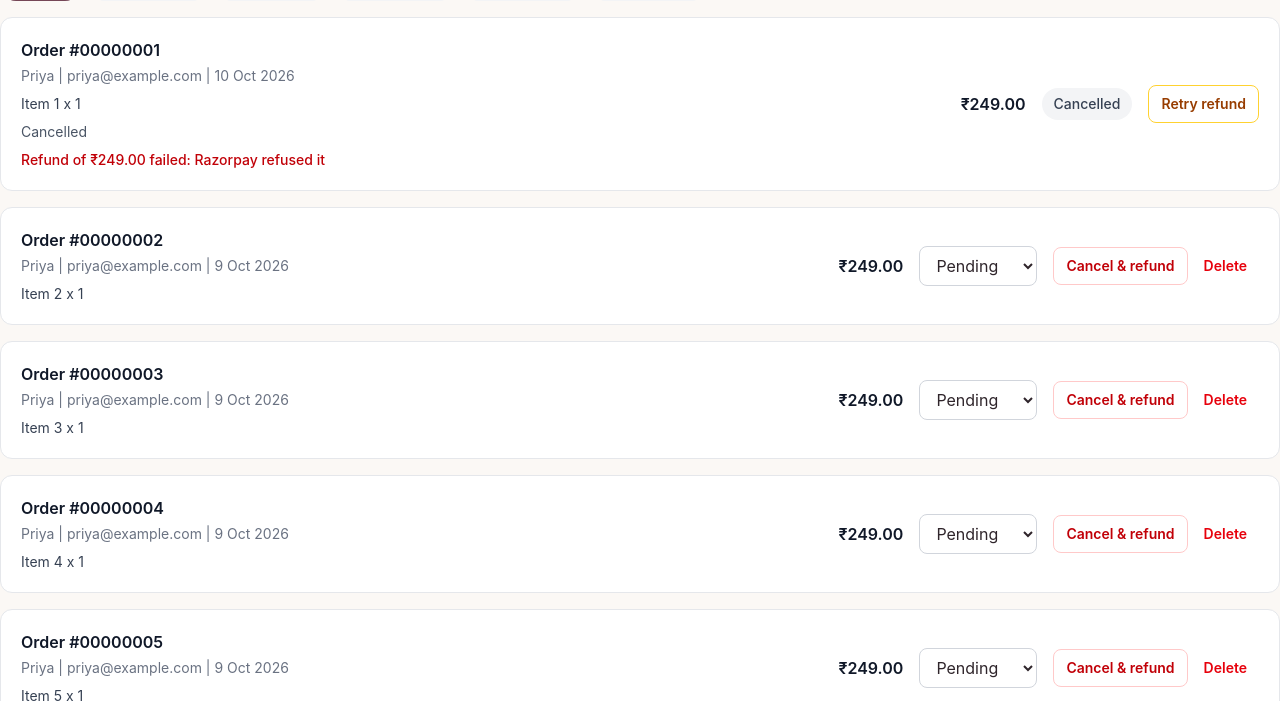
it: moving to another page clears a message about an order on this one
This screenshot has width=1280, height=701.
Click the button "Retry refund" at (1204, 104), box left=1148, top=85, right=1259, bottom=123
(page scrolled)
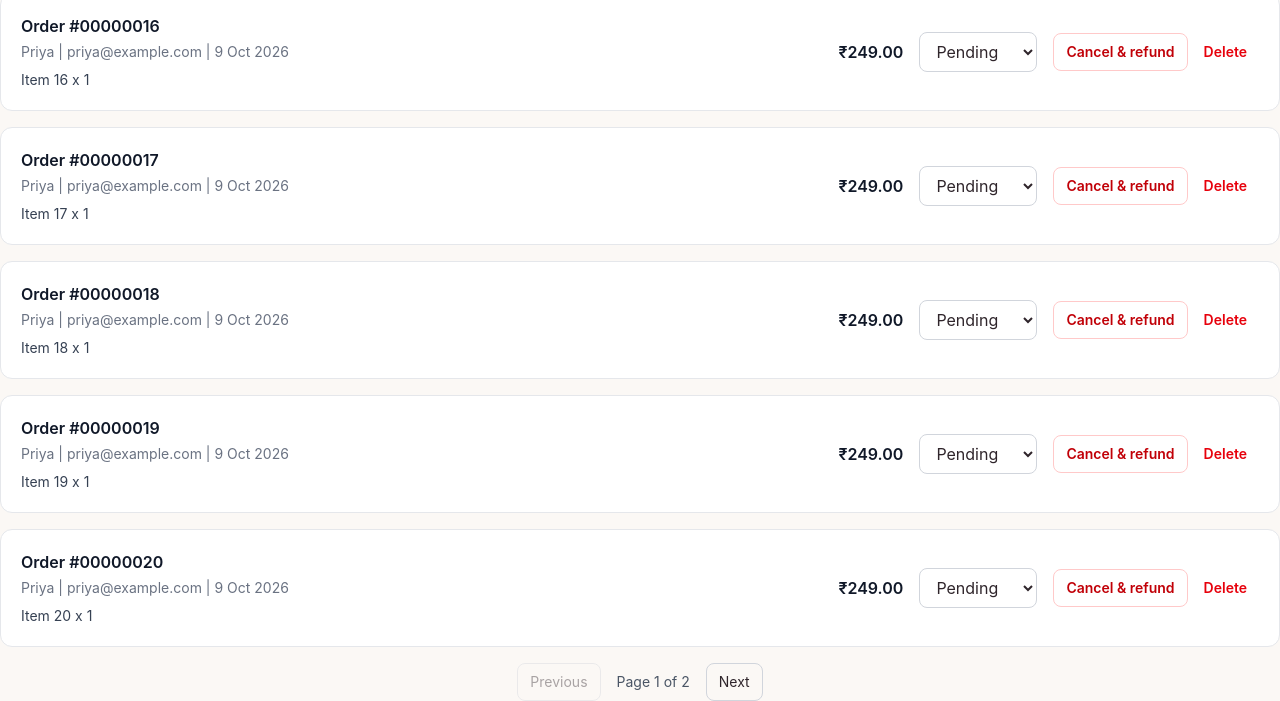
Click the button "Next" at (734, 682), box left=706, top=663, right=763, bottom=700
(page scrolled)
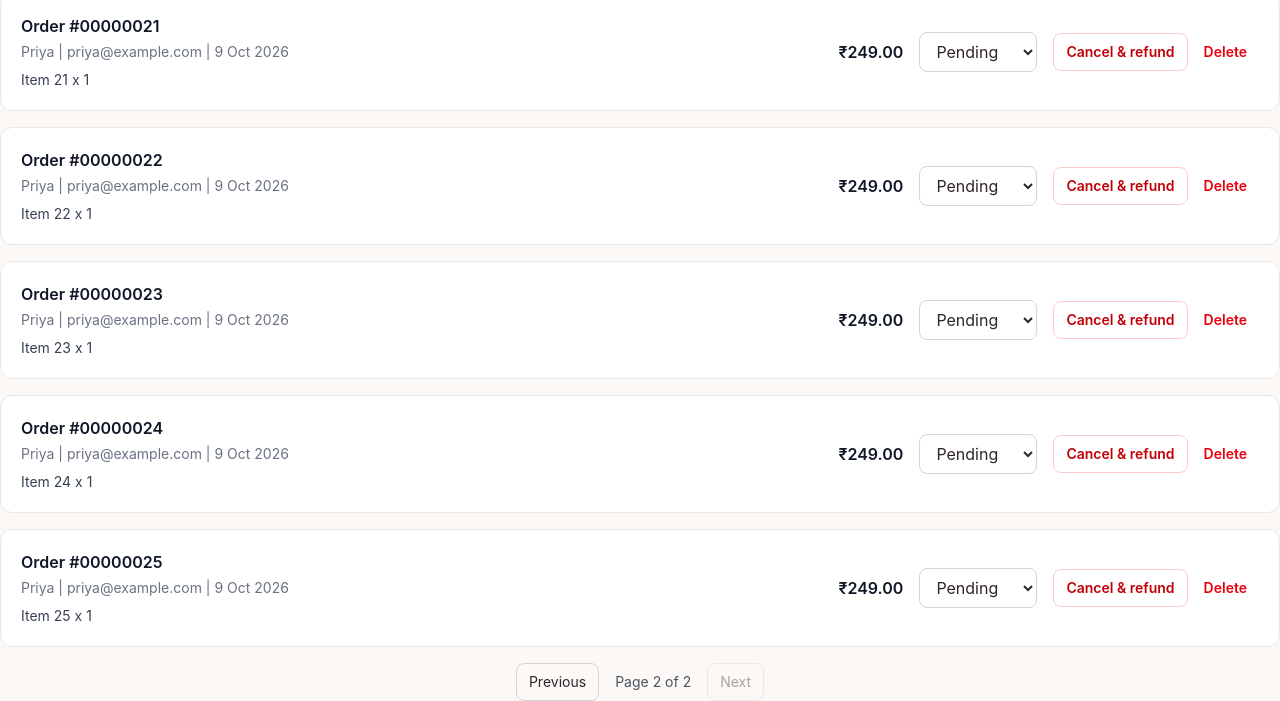
Expected: the text "Page 2 of 2" is shown, left=615, top=672, right=691, bottom=692
